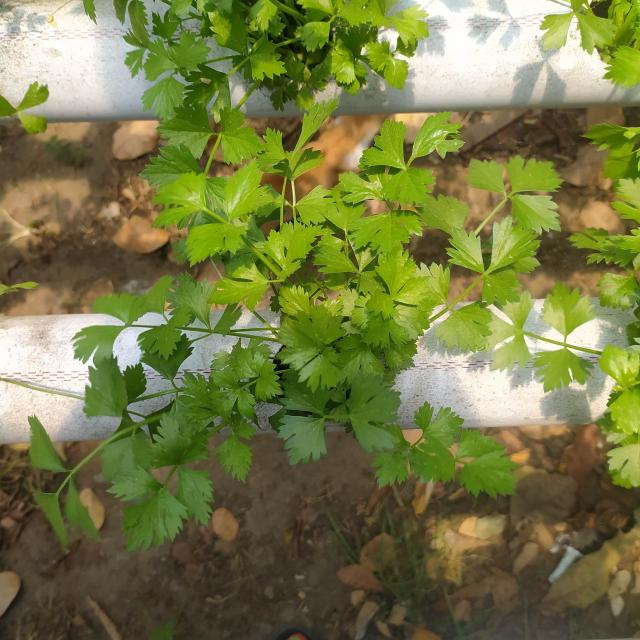Wet Waste: (112, 105, 538, 577), (8, 214, 100, 519)
